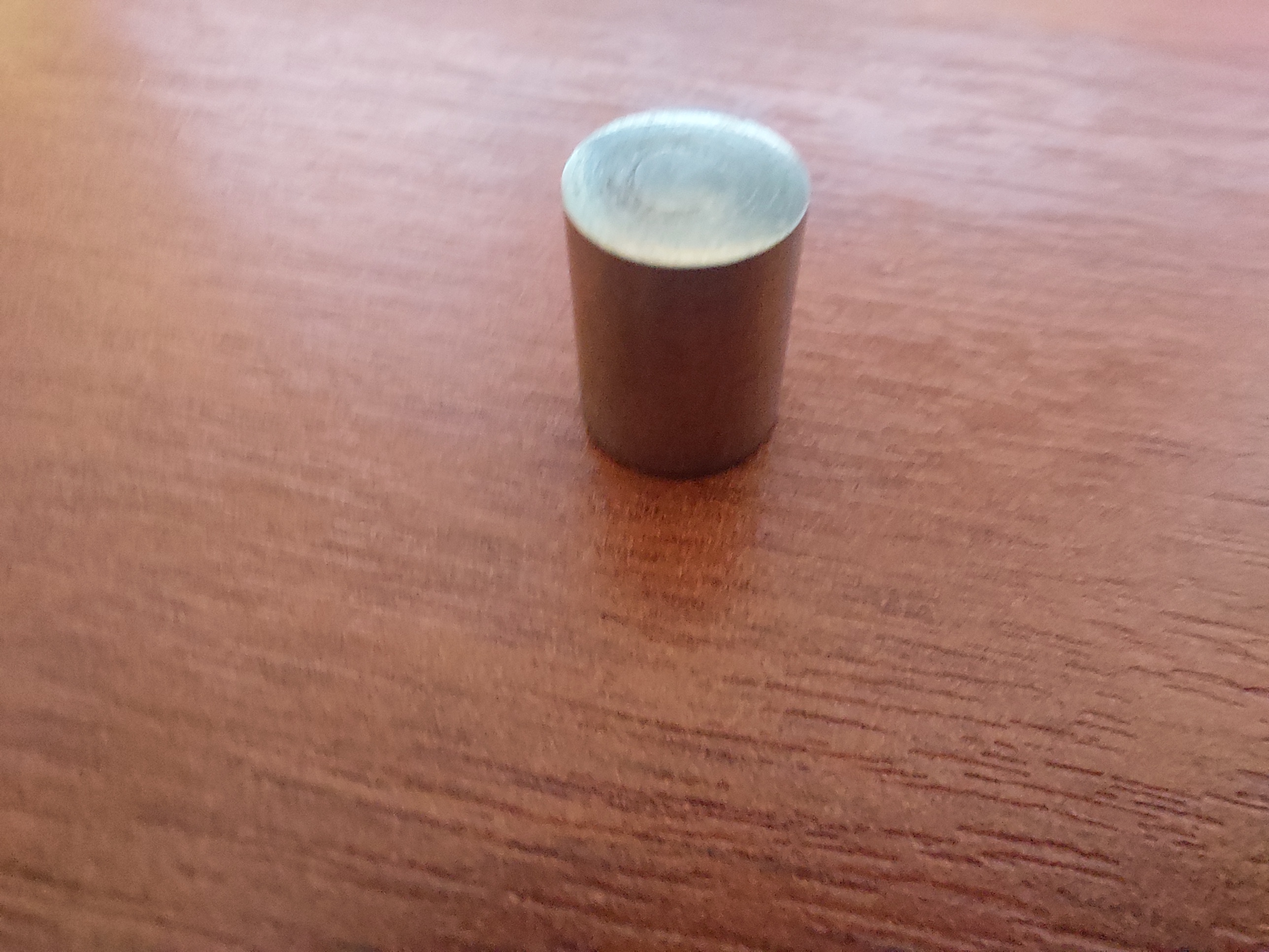tablet: (549, 102, 829, 497)
